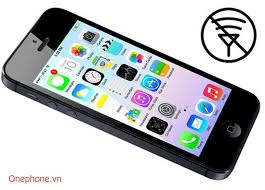iphone: (2, 2, 258, 181)
iphone5: (1, 2, 261, 179)
